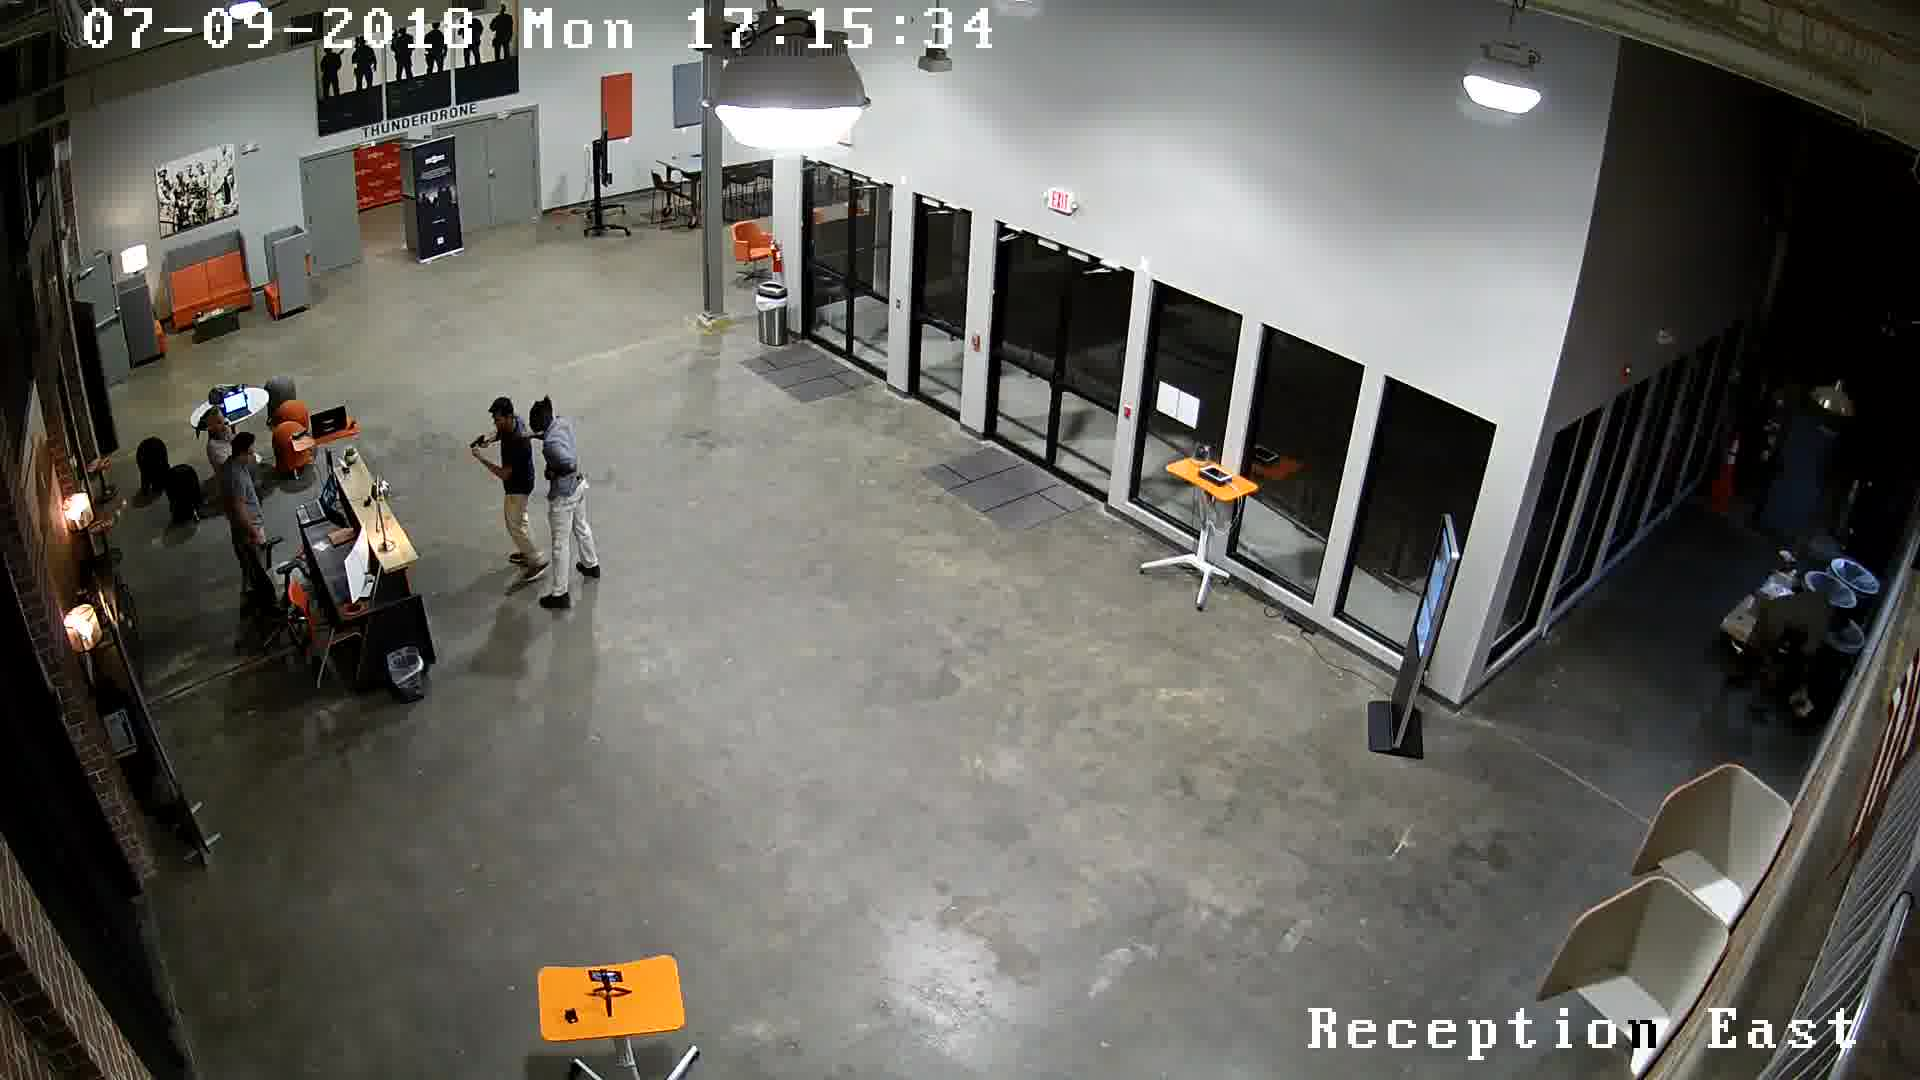pistol: (462, 430, 493, 455)
